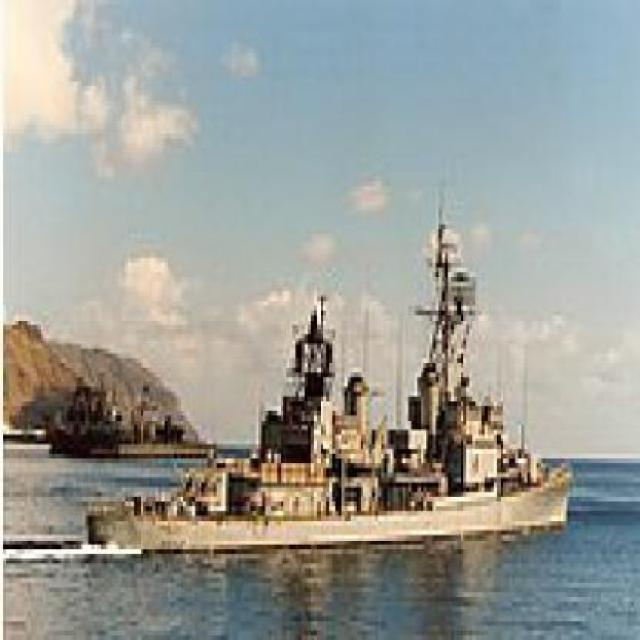warship2: (99, 225, 586, 574)
